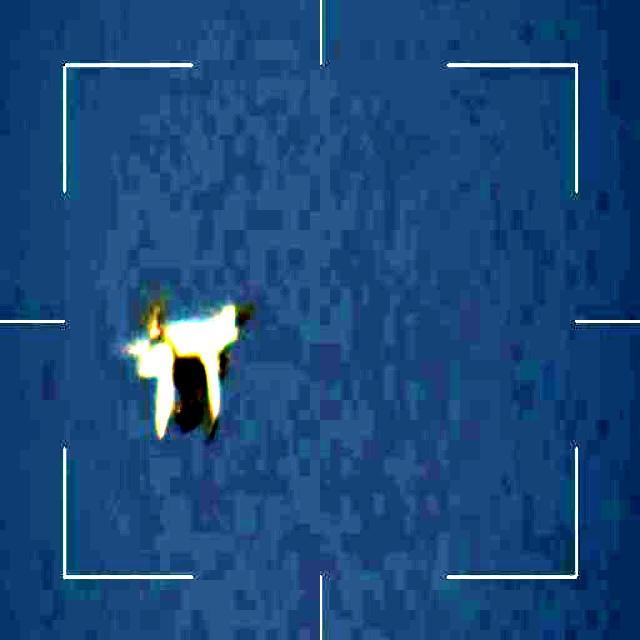bird: (118, 304, 252, 440)
